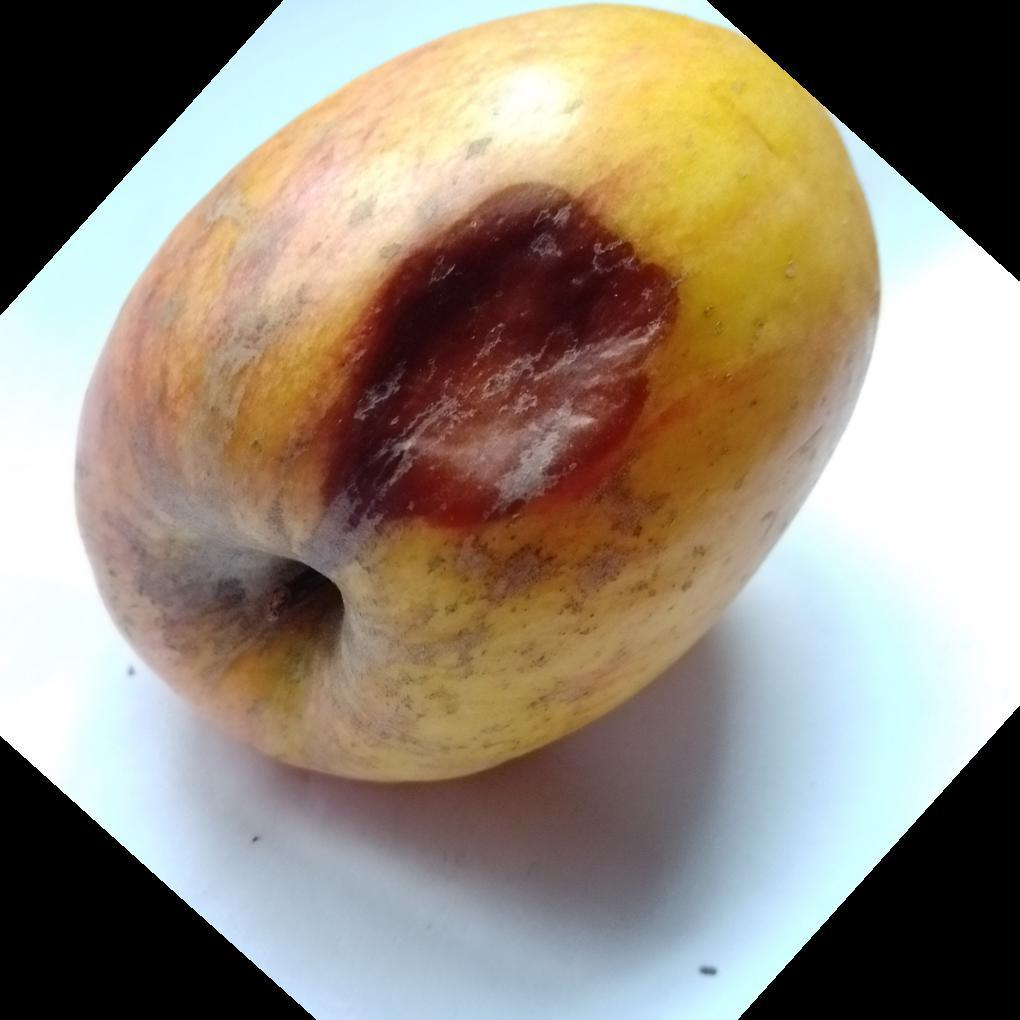FreshOrange: (71, 6, 885, 789)
